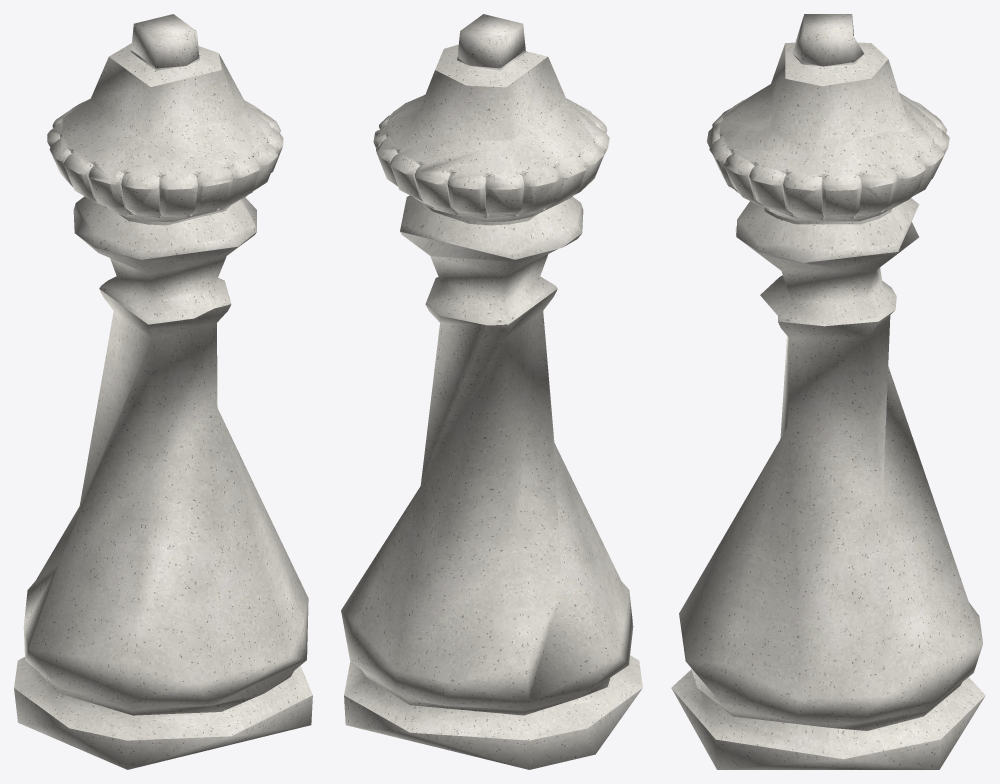
File: dama_bila.glb
3 views of the same model, side by side, from view 1: azimuth 30°, elevation 25°; view 2: azimuth 150°, elevation 25°; view 3: azimuth 270°, elevation 25° (orthographic). The views are drawn at different scales.
Parts seen in each view (by area): view 1: dama_bila; view 2: dama_bila; view 3: dama_bila.
Boxes of the visible parts, bbox=[...] form: dama_bila: bbox=[14, 14, 312, 769]; dama_bila: bbox=[341, 14, 642, 769]; dama_bila: bbox=[671, 14, 985, 769].
Size of the model in its own units: 0.034 by 0.0849 by 0.0341.
Materials: 1 (1 with a texture image).
